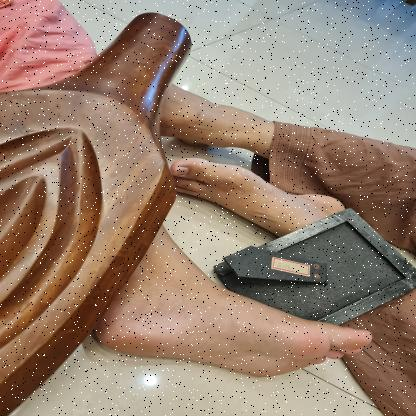leg: (90, 224, 379, 380), (163, 151, 349, 236), (150, 73, 274, 155)
